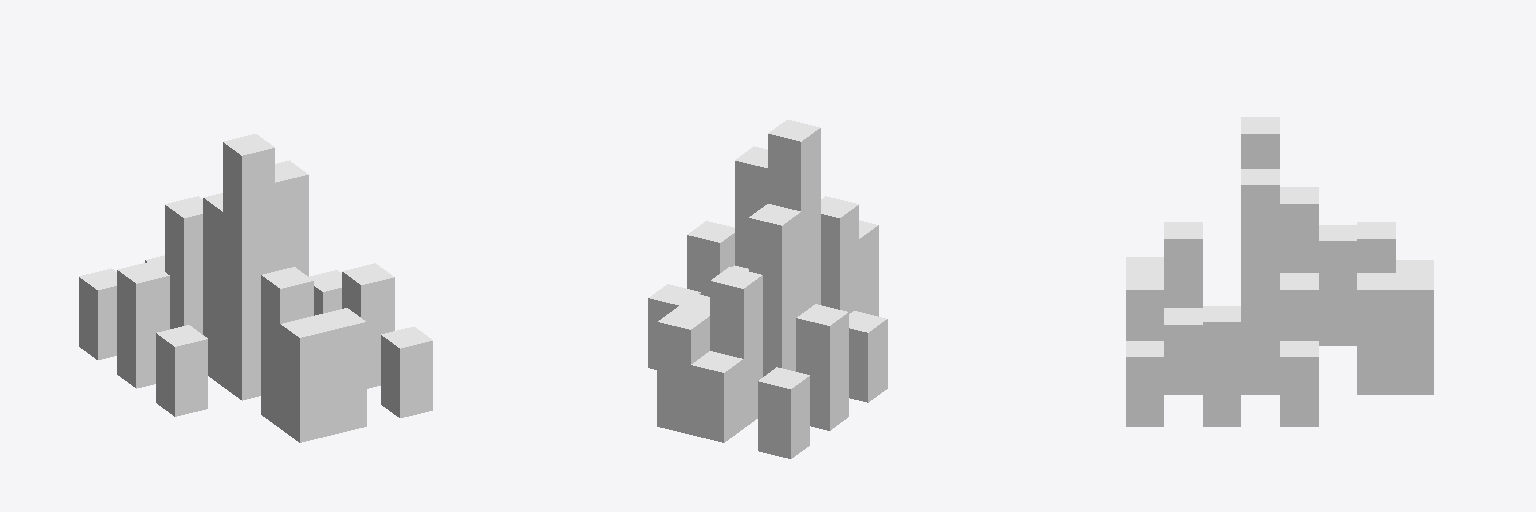
The model's file is grass-forest1.obj.
3 views of the same model, side by side, from view 1: azimuth 30°, elevation 25°; view 2: azimuth 150°, elevation 25°; view 3: azimuth 270°, elevation 25° (orthographic).
Visible parts, largest first — view 1: object 1; view 2: object 1; view 3: object 1.
Boxes of the visible parts, box(x1,y1,x2,y2) form: object 1: box(79, 134, 432, 442); object 1: box(648, 120, 887, 458); object 1: box(1126, 117, 1433, 426).
Bounding box in the file's own units: 0.6 × 0.7 × 0.8.